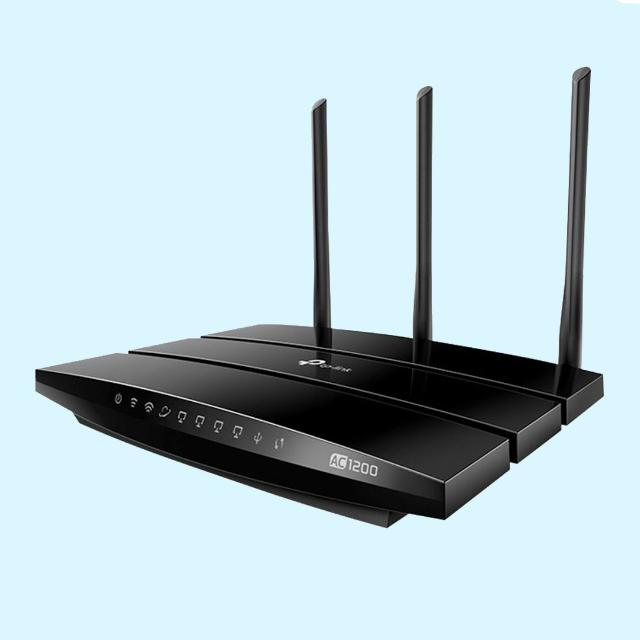Router: (34, 69, 606, 530)
